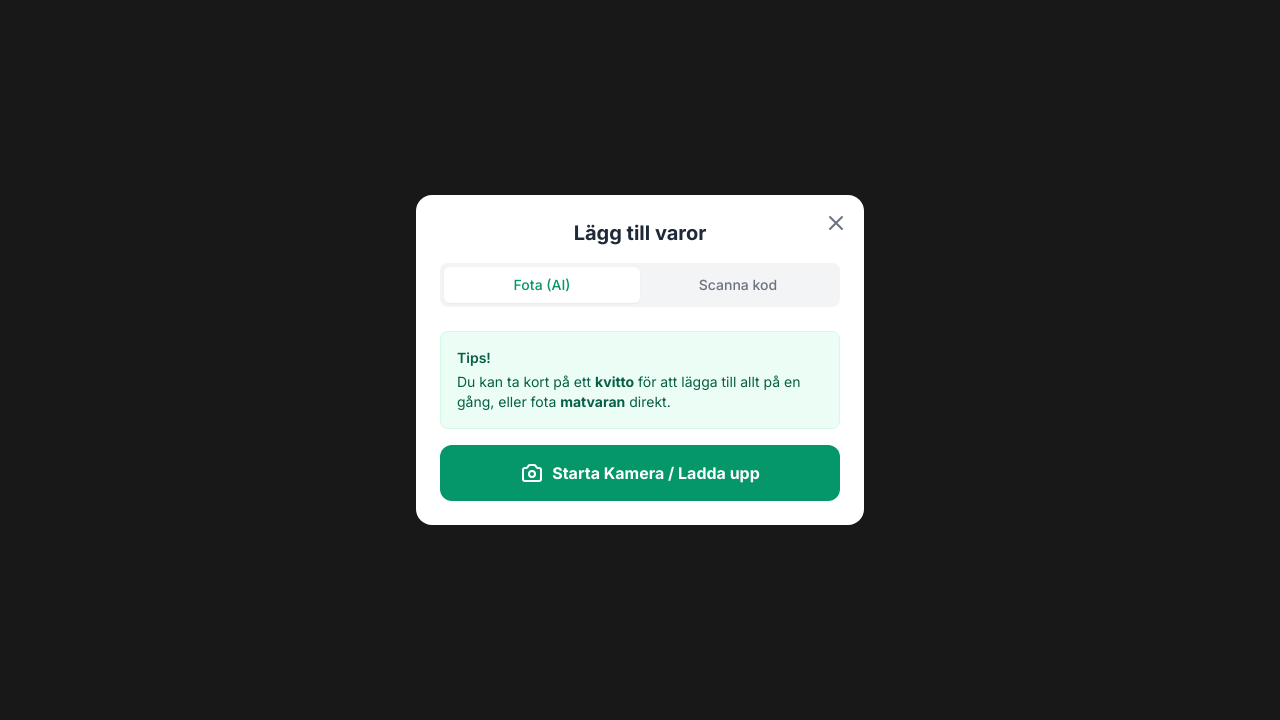
Test: Scanner › shows error when barcode lookup throws
Click the button "Scanna kod" at (738, 285), box [640,267,836,303]
Wait 100 ms
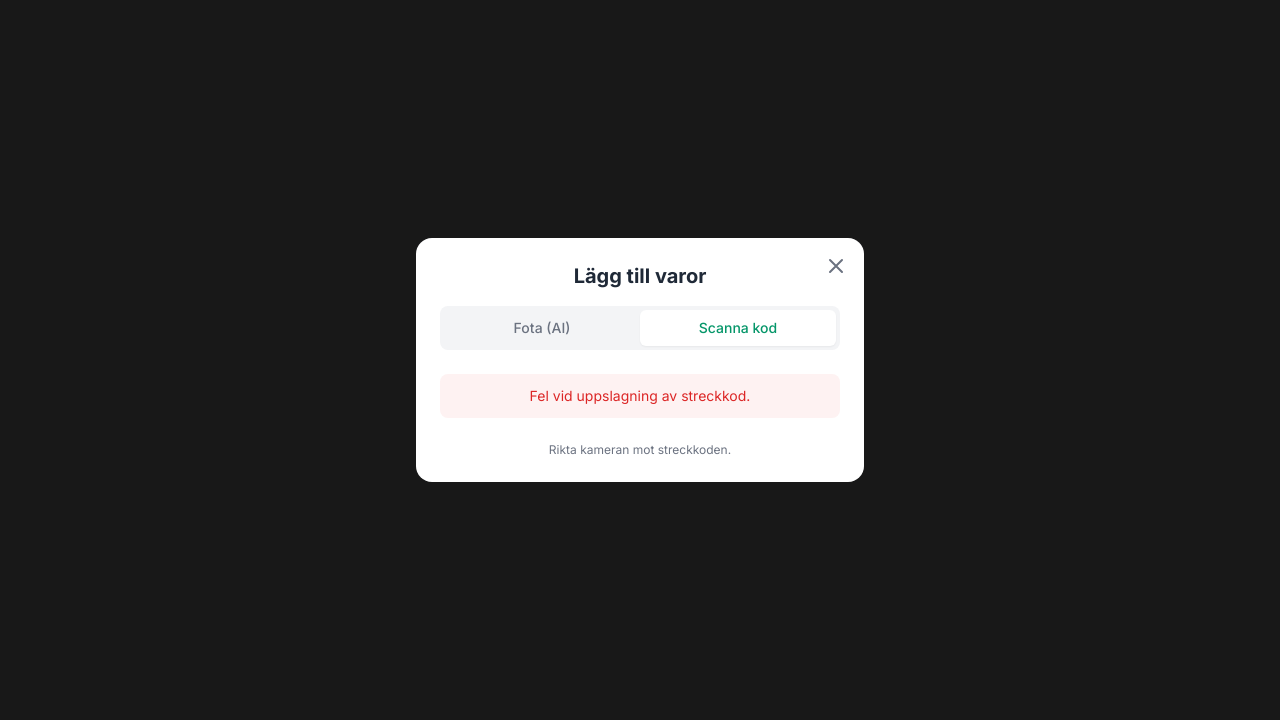
Now the text "Fel vid uppslagning av streckkod." is shown, box [440,374,840,418]
